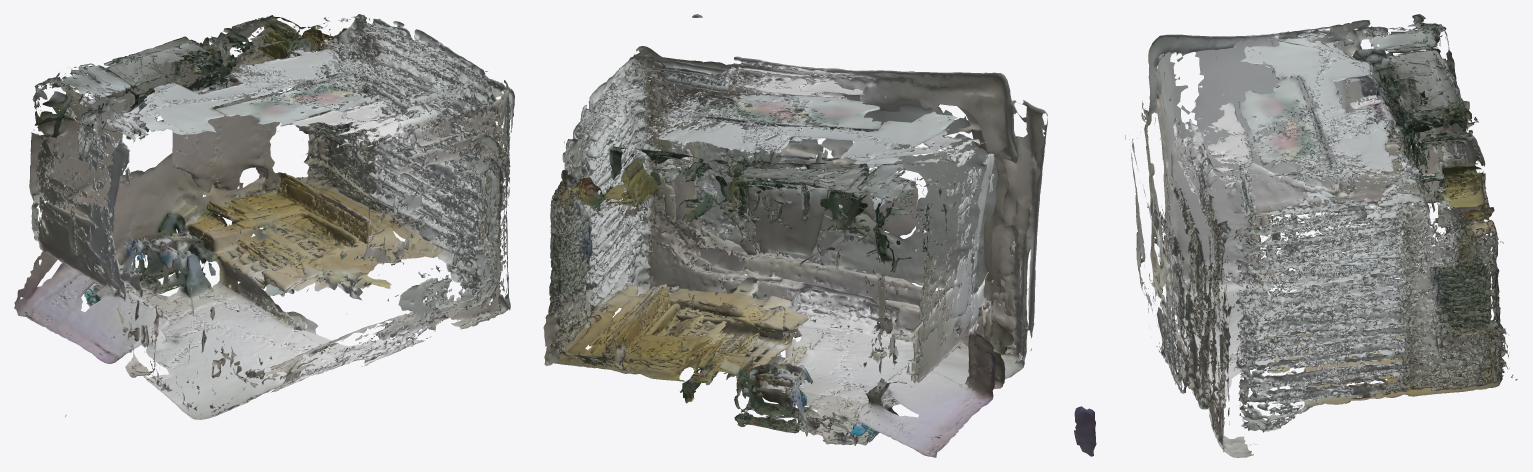
File: cowork_room.glb
The picture shows the model from 3 angles, left to right: view 1: azimuth 30°, elevation 25°; view 2: azimuth 150°, elevation 25°; view 3: azimuth 270°, elevation 25°; orthographic projection. The views are drawn at different scales.
Bounding box in the file's own units: 5.98 × 4.09 × 4.47.
